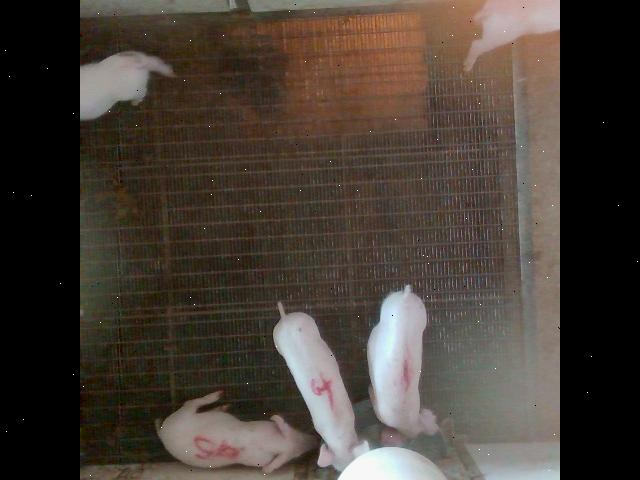pig-1: (369, 285, 439, 445)
pig-4: (274, 301, 368, 470)
pig-5: (156, 390, 317, 471)
